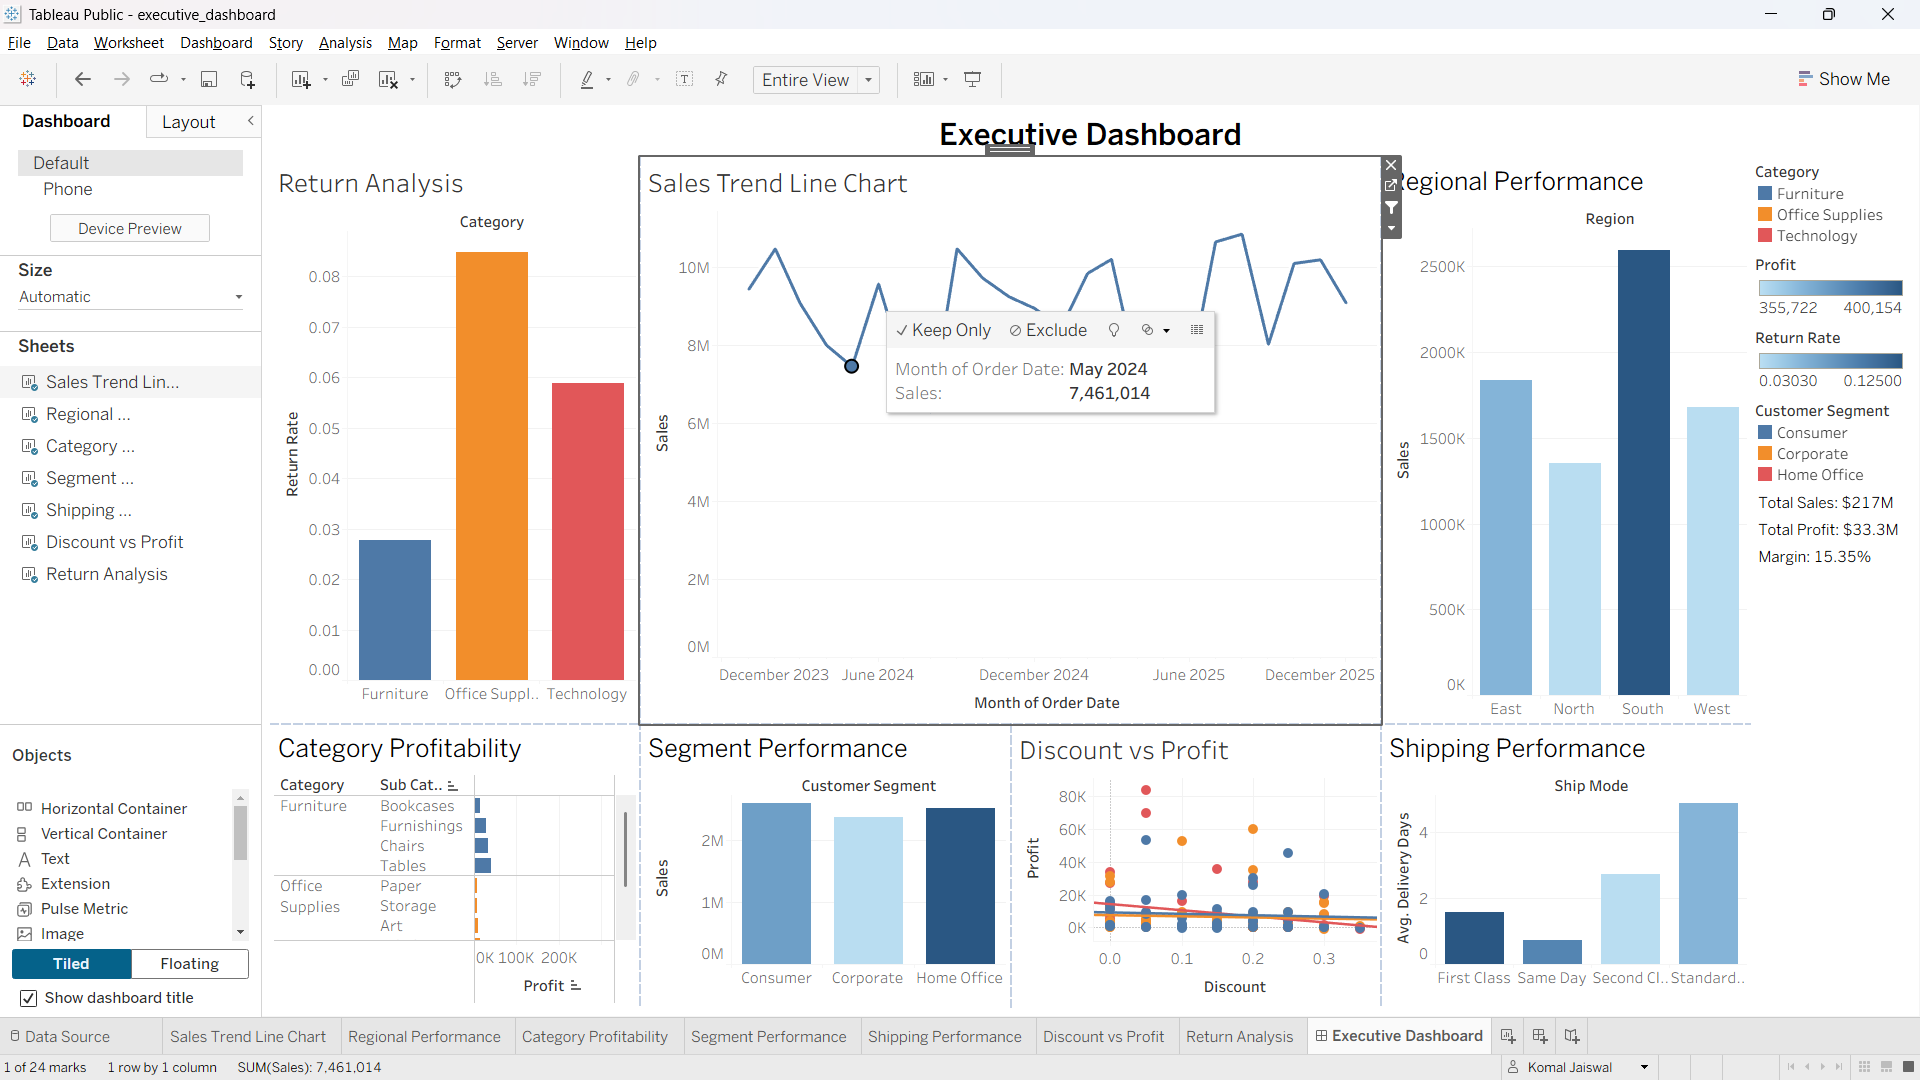

This screenshot's page, from the dashboard's own definition file:
{"tool":"tableau","page":{"name":"Executive Dashboard","canvas":[1000,1000],"units":"permille","ordinal":0},"visuals":[{"type":"title","box":[4.8,8.8,990.3,48.3]},{"type":"worksheet","title":"Return Analysis","mark":"Automatic","rows":["Calculation_1692440947376131"],"cols":["category"],"box":[4.8,57.1,223.4,622.7]},{"type":"worksheet","title":"Sales Trend Line Chart","mark":"Automatic","rows":["sales"],"cols":["order_date"],"box":[228.3,57.1,446.9,622.7]},{"type":"worksheet","title":"Regional Bar Chart","mark":"Automatic","rows":["sales"],"cols":["region"],"box":[675.2,57.1,223.5,622.7]},{"type":"legend","title":"Category Profitability","param":"[federated.1cgq1v41l2yfxk1ax2un60ximlwh].[none:category:nk]","box":[898.6,57.1,96.6,102.1]},{"type":"legend","title":"Segment Performance","param":"[federated.1cgq1v41l2yfxk1ax2un60ximlwh].[sum:profit:qk]","box":[898.6,159.2,96.6,80.1]},{"type":"legend","title":"Shipping Performance","param":"[federated.1cgq1v41l2yfxk1ax2un60ximlwh].[usr:Calculation_1692440947376131:qk]","box":[898.6,239.3,96.6,80.1]},{"type":"legend","title":"Discount vs Profit","param":"[federated.1cgq1v41l2yfxk1ax2un60ximlwh].[none:customer_segment:nk]","box":[898.6,319.4,96.6,102.1]},{"type":"text","box":[898.6,421.5,96.6,29.6]},{"type":"text","box":[898.6,451.1,96.6,29.6]},{"type":"text","box":[898.6,480.8,96.6,29.6]},{"type":"filter","title":"Sales Trend Line Chart","param":"[federated.1cgq1v41l2yfxk1ax2un60ximlwh].[none:order_date:qk]","box":[898.6,510.4,96.6,80.1]},{"type":"worksheet","title":"Category Profitability","mark":"Automatic","rows":["category","sub_category"],"cols":["profit"],"box":[4.8,679.8,223.4,311.4]},{"type":"worksheet","title":"Segment Performance","mark":"Automatic","rows":["sales"],"cols":["customer_segment"],"box":[228.3,679.8,223.5,311.4]},{"type":"worksheet","title":"Discount vs Profit","mark":"Circle","rows":["profit"],"cols":["discount"],"box":[451.7,679.8,223.4,311.4]},{"type":"worksheet","title":"Shipping Performance","mark":"Automatic","rows":["delivery_days"],"cols":["ship_mode"],"box":[675.2,679.8,223.5,311.4]}]}

Visuals, with their boxes on the dashboard's canvas, which has no fixed pixel size, in thousandths of its width and height (x1, y1, x2, y2). These are canvas units, not pixel positions in the 1920x1080 screenshot, which may show the page scaled, cropped or inside an application window:
title: (5, 9, 995, 57)
"Return Analysis" worksheet: (5, 57, 228, 680)
"Sales Trend Line Chart" worksheet: (228, 57, 675, 680)
"Regional Bar Chart" worksheet: (675, 57, 899, 680)
"Category Profitability" legend: (899, 57, 995, 159)
"Segment Performance" legend: (899, 159, 995, 239)
"Shipping Performance" legend: (899, 239, 995, 319)
"Discount vs Profit" legend: (899, 319, 995, 422)
text: (899, 422, 995, 451)
text: (899, 451, 995, 481)
text: (899, 481, 995, 510)
"Sales Trend Line Chart" filter: (899, 510, 995, 590)
"Category Profitability" worksheet: (5, 680, 228, 991)
"Segment Performance" worksheet: (228, 680, 452, 991)
"Discount vs Profit" worksheet (Circle marks): (452, 680, 675, 991)
"Shipping Performance" worksheet: (675, 680, 899, 991)
